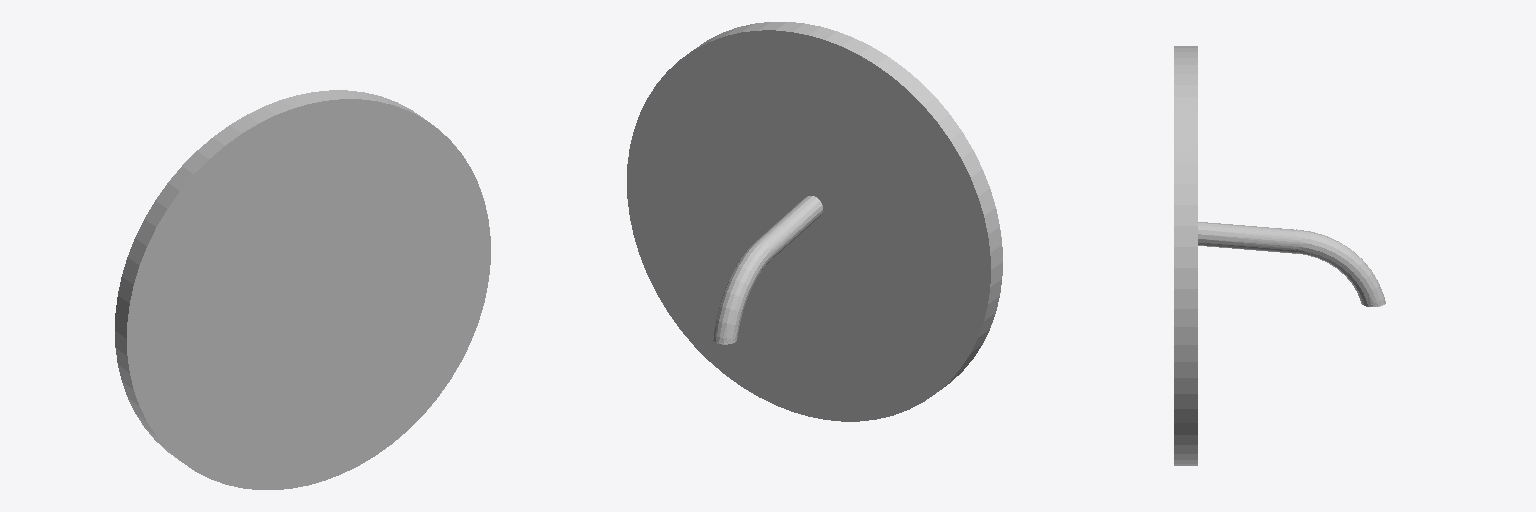
The model's file is memphis_kristall_table.obj.
3 views of the same model, side by side, from view 1: azimuth 30°, elevation 25°; view 2: azimuth 150°, elevation 25°; view 3: azimuth 270°, elevation 25° (orthographic).
Parts seen in each view (by area): view 1: object_1; view 2: object_1; view 3: object_1.
Part boxes in pixels (bbox=[...]): object_1: bbox=[115, 90, 490, 489]; object_1: bbox=[627, 22, 1002, 421]; object_1: bbox=[1174, 46, 1385, 465].
Size of the model in its own units: 350 by 350 by 176.